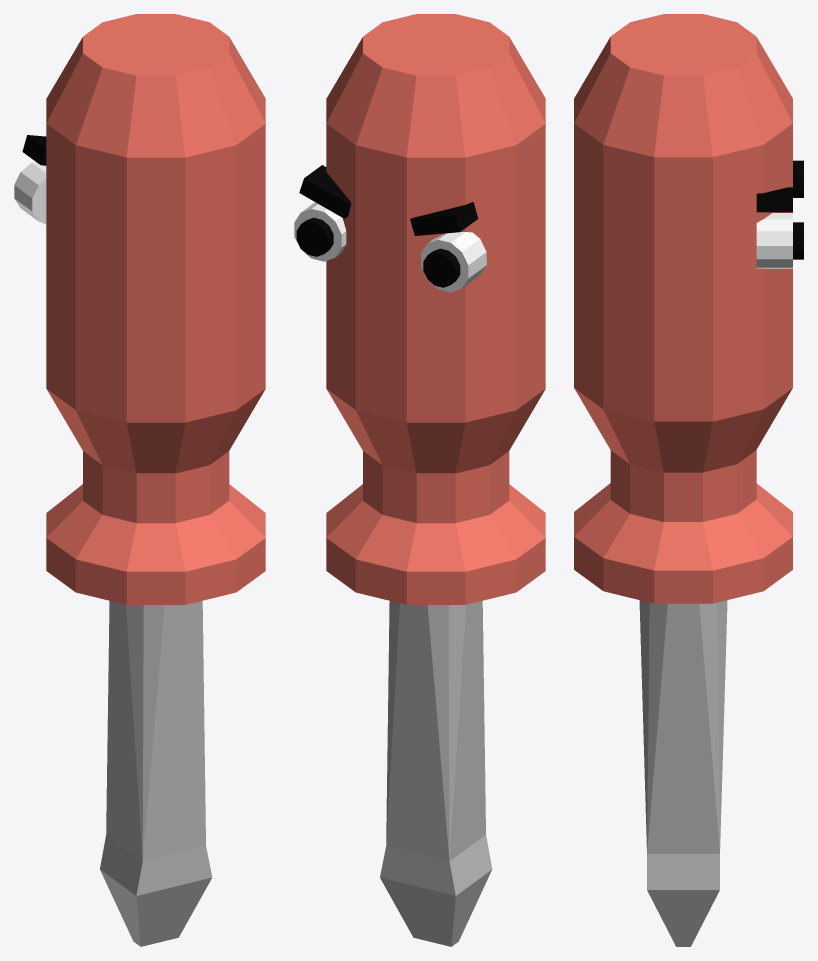
Rendered from ScrewDriver.fbx.
The picture shows the model from 3 angles, left to right: view 1: azimuth 30°, elevation 25°; view 2: azimuth 150°, elevation 25°; view 3: azimuth 270°, elevation 25°; orthographic projection.
Parts seen in each view (by area): view 1: cylinder_1, cylinder, cuboid, cylinder_4, cuboid_2; view 2: cylinder_1, cylinder, cuboid, cylinder_4, cuboid_2, cuboid_1, cylinder_2, cylinder_5, cylinder_3; view 3: cylinder_1, cylinder, cuboid, cylinder_2, cuboid_1.
Boxes of the visible parts, x1,y1,x2,y2 form: cylinder_1: (46, 14, 265, 604); cylinder: (106, 600, 205, 861); cuboid: (100, 835, 212, 946); cylinder_4: (14, 161, 46, 223); cuboid_2: (22, 135, 46, 165); cylinder_1: (326, 14, 545, 604); cylinder: (386, 601, 485, 861); cuboid: (380, 835, 492, 946); cylinder_4: (421, 232, 486, 292); cuboid_2: (410, 202, 478, 235); cuboid_1: (299, 165, 351, 218); cylinder_2: (294, 202, 346, 261); cylinder_5: (423, 248, 460, 287); cylinder_3: (296, 217, 333, 256); cylinder_1: (574, 14, 792, 603); cylinder: (639, 600, 727, 853); cuboid: (647, 854, 719, 946); cylinder_2: (756, 213, 792, 268); cuboid_1: (756, 187, 792, 212).
Bounding box in the file's own units: 18.75 × 84.38 × 19.69.
4 materials, 4 textured.
